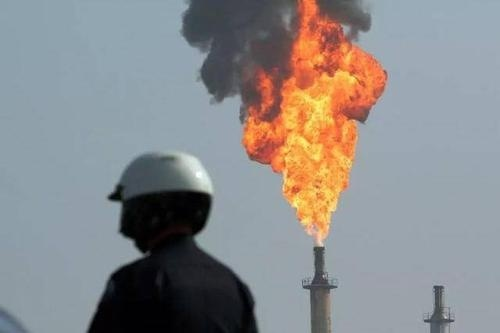fire: (241, 1, 382, 243)
